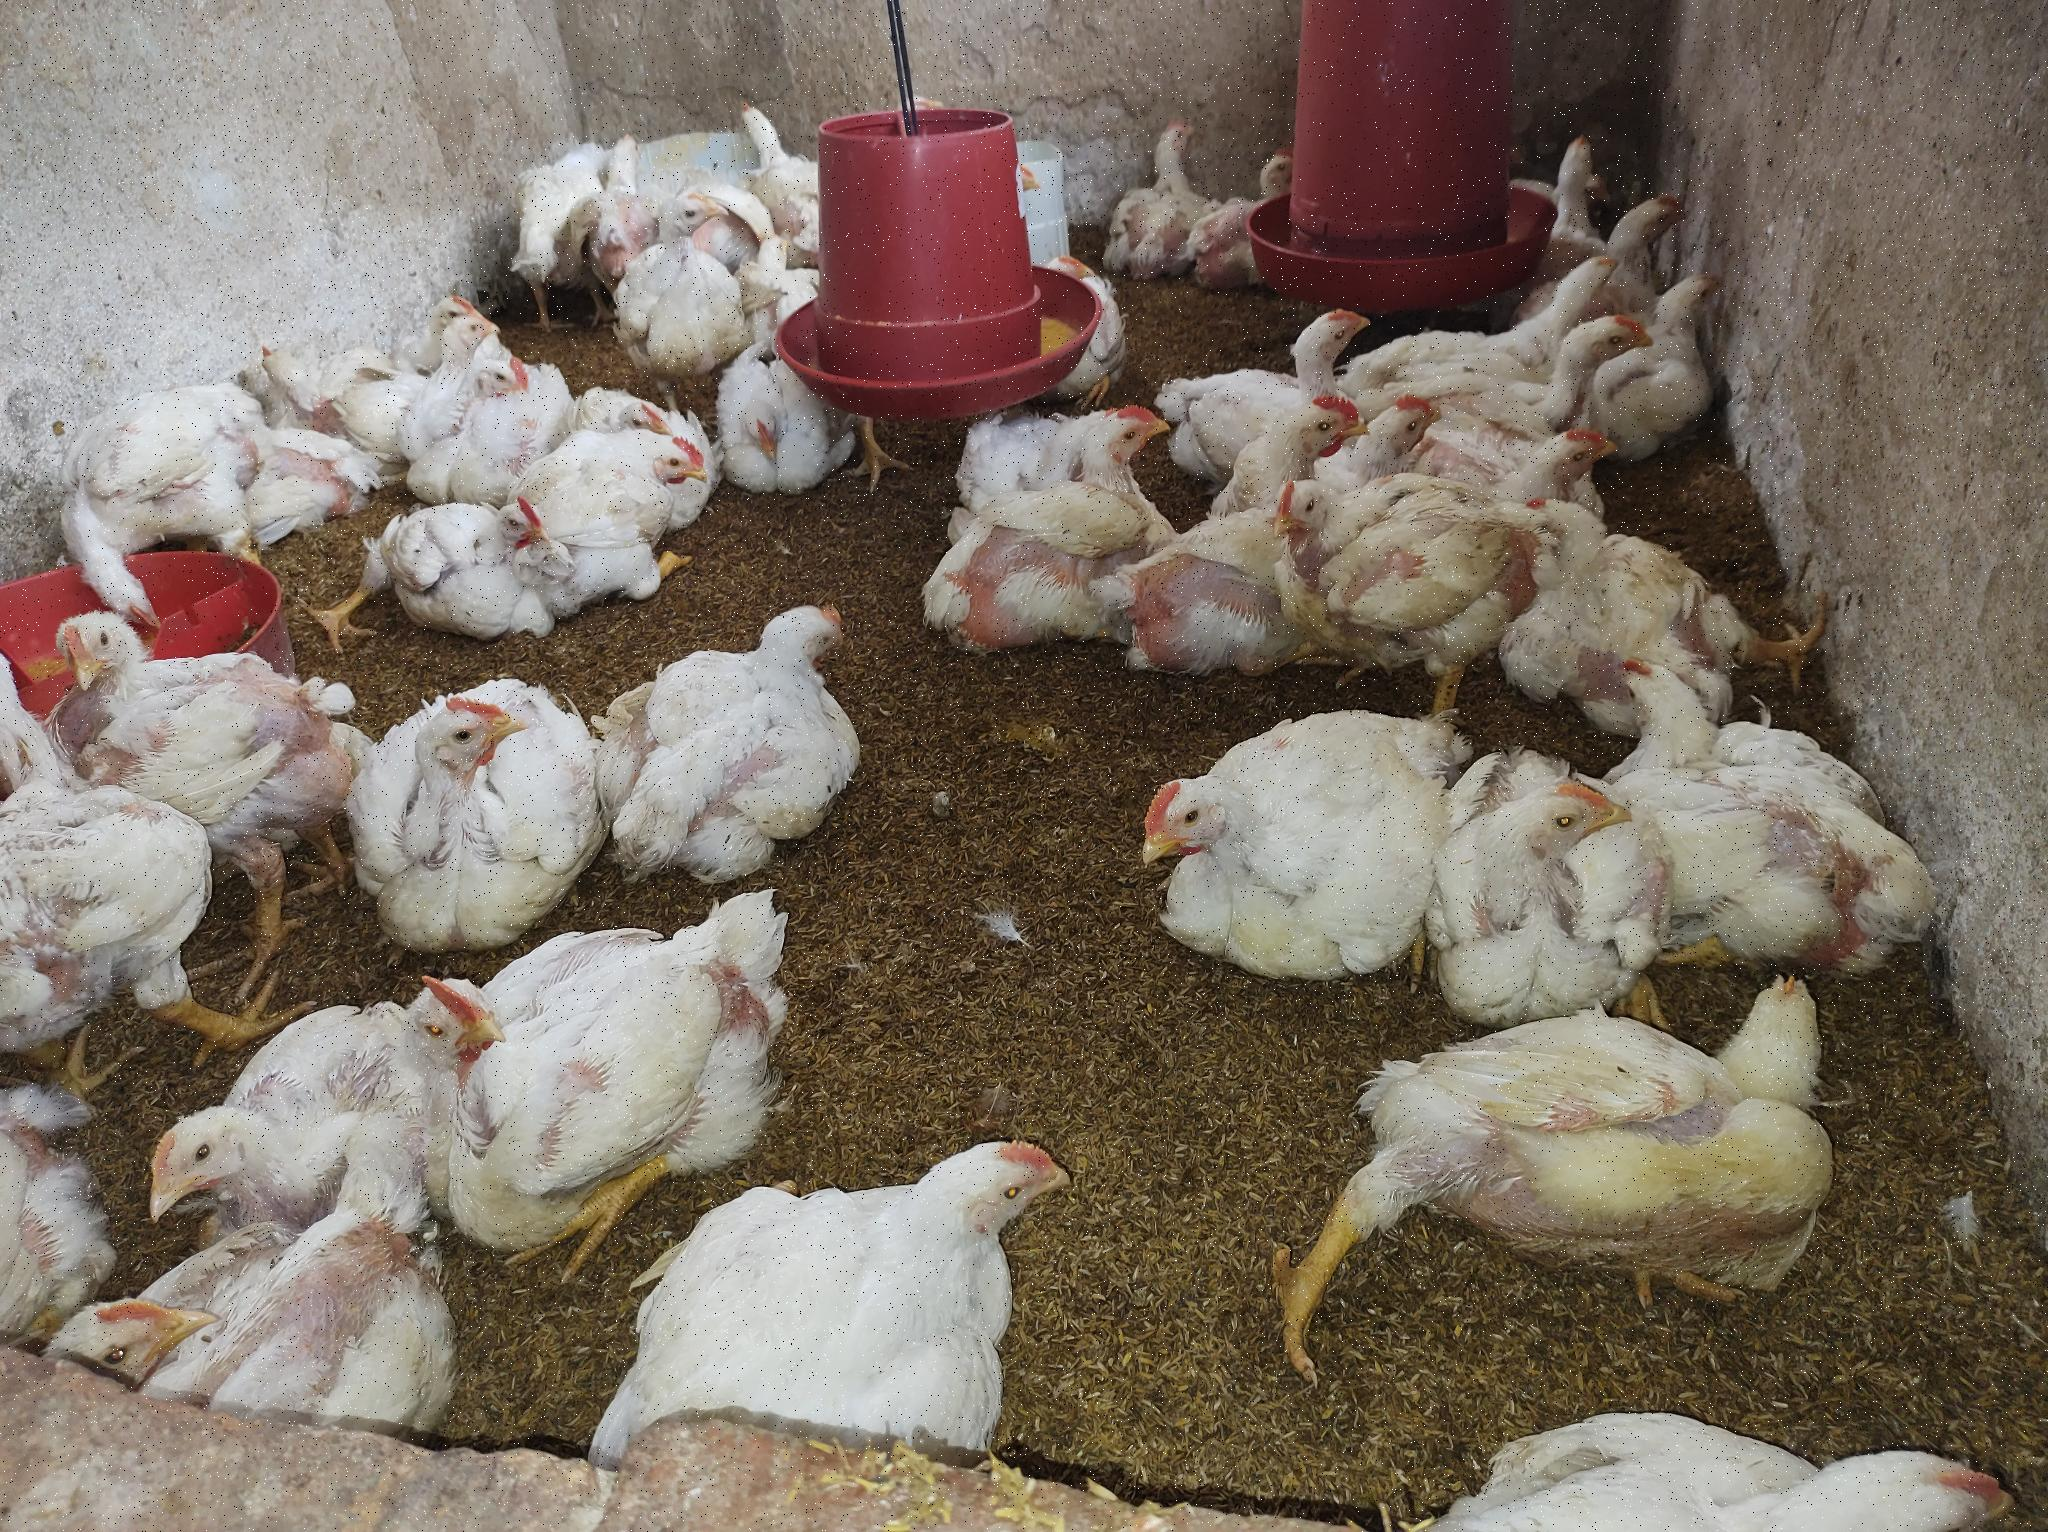Pollos: (1273, 975, 1852, 1379), (660, 1135, 1092, 1476), (389, 929, 803, 1225), (1614, 657, 1966, 991), (1141, 700, 1445, 991), (56, 1238, 479, 1439), (608, 610, 880, 904), (138, 993, 413, 1268), (1430, 1406, 2009, 1532), (2, 740, 219, 1052), (1514, 494, 1834, 698), (349, 677, 602, 922), (936, 406, 1174, 649), (40, 613, 356, 793), (1441, 737, 1659, 990), (61, 380, 253, 628), (1273, 483, 1514, 674), (529, 430, 719, 600), (359, 499, 557, 644), (721, 349, 890, 499), (409, 357, 579, 496), (615, 191, 734, 377), (520, 132, 610, 319), (1107, 121, 1216, 270), (1034, 249, 1133, 409), (735, 93, 841, 224), (1205, 146, 1306, 278), (253, 322, 402, 404), (1501, 423, 1626, 500), (1557, 311, 1659, 406), (1247, 396, 1369, 468), (1643, 269, 1736, 360), (1276, 311, 1382, 389), (1541, 241, 1623, 332), (1552, 129, 1604, 249), (603, 130, 656, 246), (1366, 397, 1450, 467), (1617, 191, 1692, 266), (442, 315, 504, 369), (415, 290, 470, 327)
